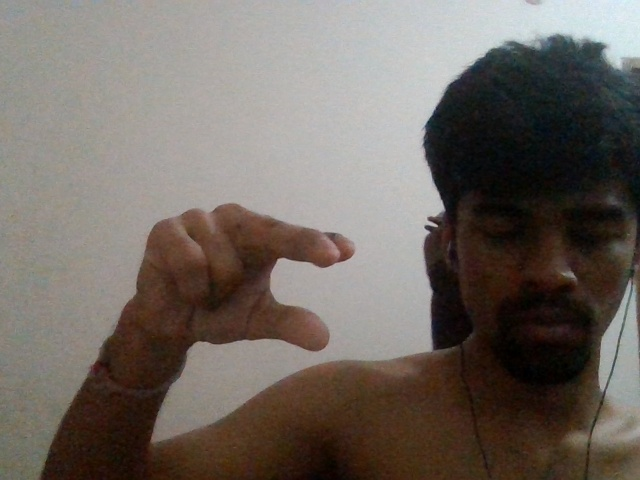No: (133, 191, 361, 360)
